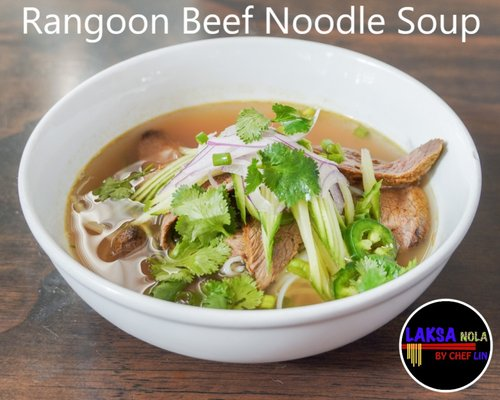curry: (246, 141, 322, 207), (199, 273, 265, 311)
sushi: (17, 40, 459, 366)
